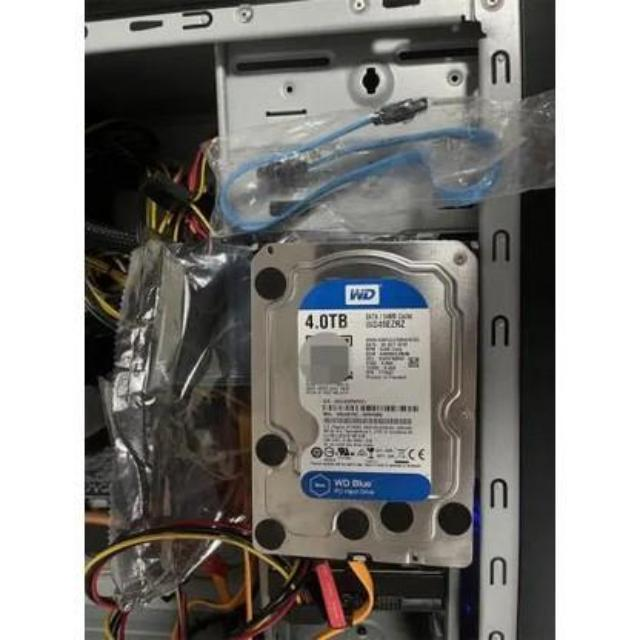DISK: (238, 228, 476, 576)
